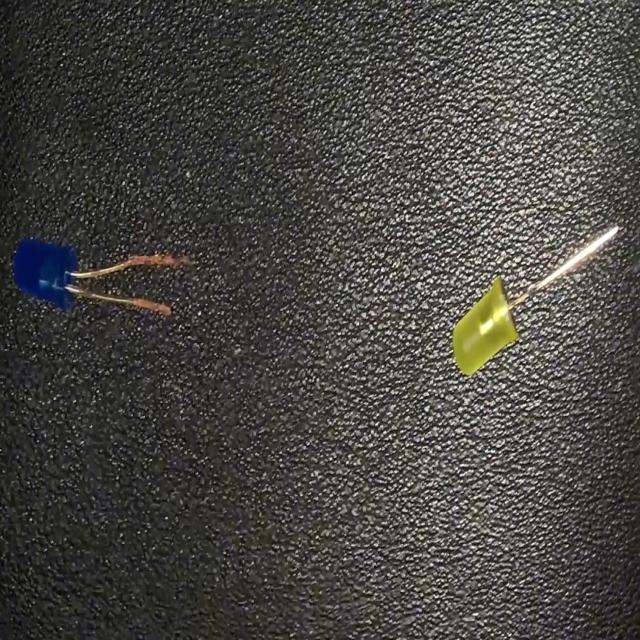LED: (11, 230, 193, 320)
missing-leg: (450, 220, 620, 385)
rust: (122, 243, 190, 276), (128, 289, 172, 314)
